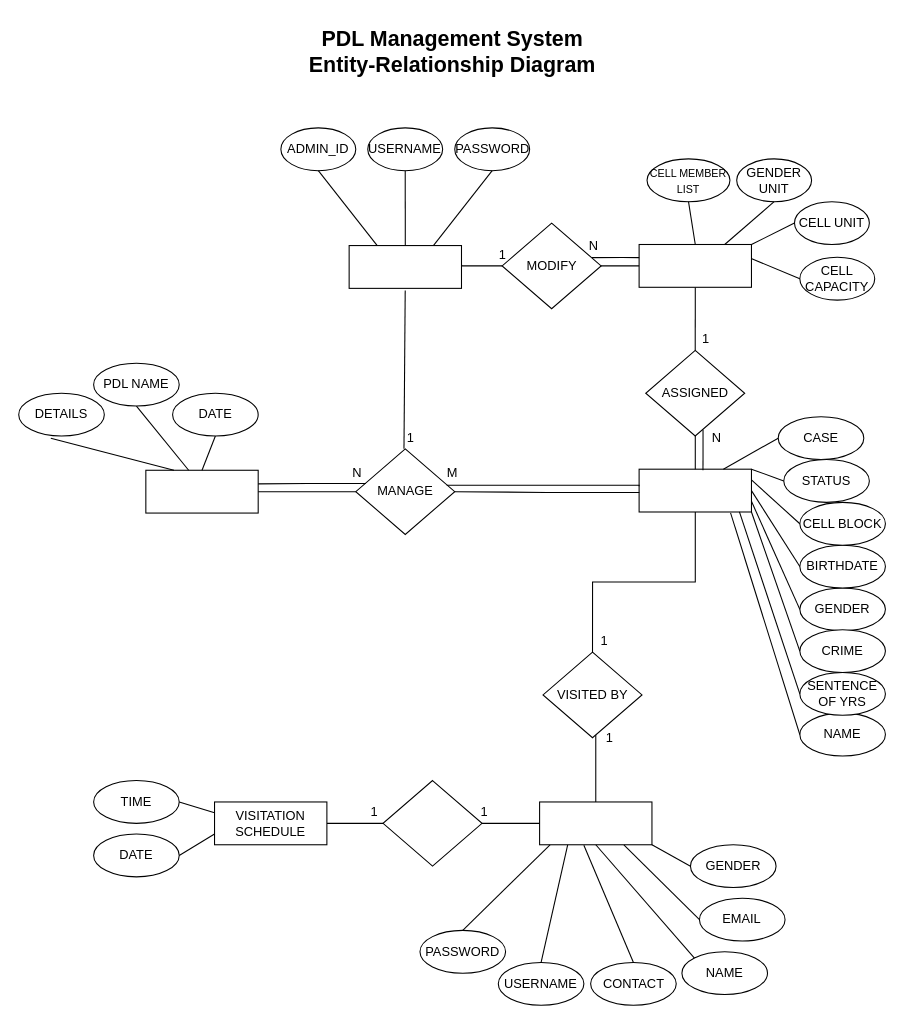
Some shapes in this 904 by 1024 pixel diagram are drawn without their labels. Each missing label, with the centre of its shape:
ADMIN: the point at 404,266
APPOINTMENT SETUP: the point at 432,822
CELL CLOCKS: the point at 694,265
PDL INFORMATION: the point at 694,490
REPORTS: the point at 201,491
VISITORS: the point at 595,823
